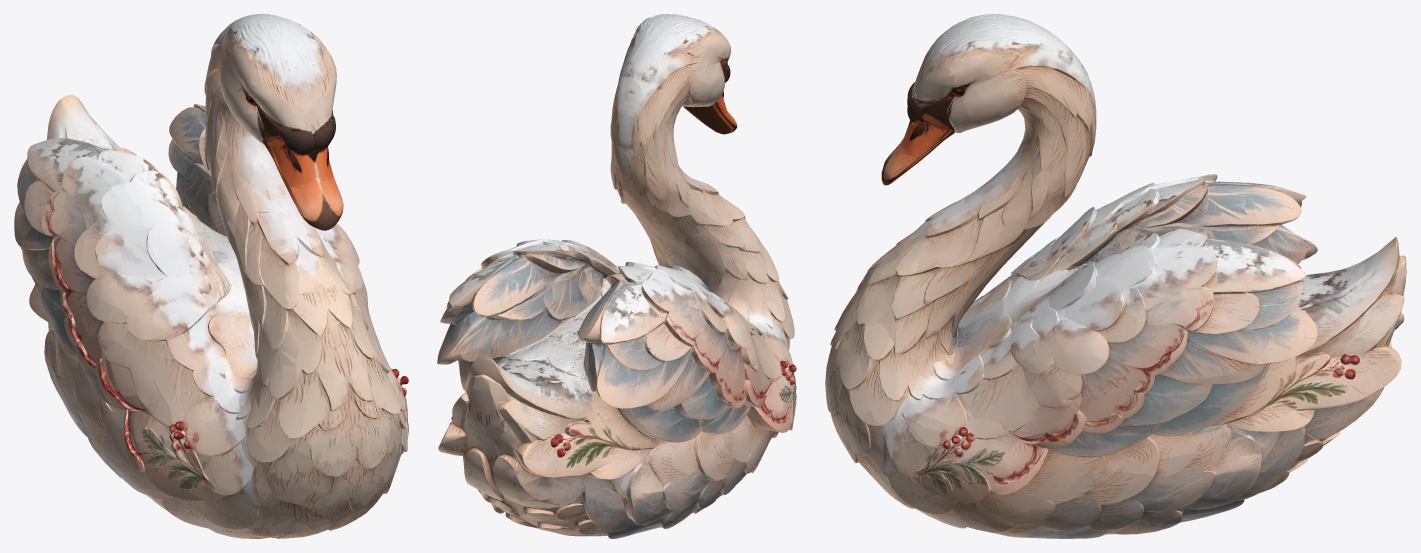
File: swan.glb
3 views of the same model, side by side, from view 1: azimuth 30°, elevation 25°; view 2: azimuth 150°, elevation 25°; view 3: azimuth 270°, elevation 25° (orthographic). The views are drawn at different scales.
Size of the model in its own units: 0.9833 by 1.75 by 1.9.
Materials: 1 (1 with a texture image).
